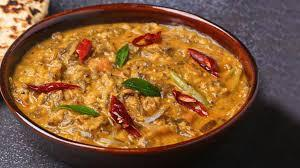Dhal Curry: (19, 17, 238, 145)
